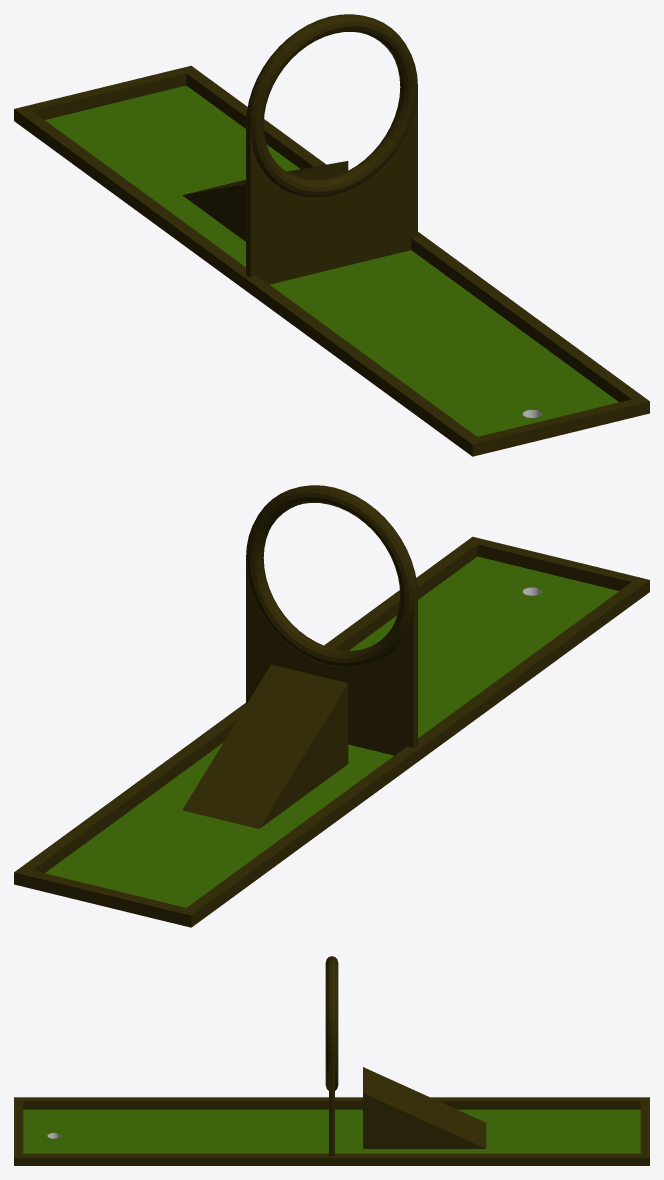
File: course7.fbx
3 views of the same model, one above another, from view 1: azimuth 30°, elevation 25°; view 2: azimuth 150°, elevation 25°; view 3: azimuth 270°, elevation 25° (orthographic). The views are drawn at different scales.
Parts seen in each view (by area): view 1: pPlane1, pCube5, Cube.001, Torus, Cube; view 2: pPlane1, pCube5, Cube, Cube.001, Torus; view 3: pPlane1, pCube5, Cube, Torus, Cube.001.
Boxes of the visible parts, bbox=[...] form: pPlane1: bbox=[45, 85, 618, 436]; pCube5: bbox=[14, 65, 649, 456]; Cube.001: bbox=[246, 90, 417, 284]; Torus: bbox=[246, 14, 417, 197]; Cube: bbox=[182, 161, 348, 241]; pPlane1: bbox=[45, 556, 618, 907]; pCube5: bbox=[14, 536, 649, 927]; Cube: bbox=[182, 664, 348, 828]; Cube.001: bbox=[246, 561, 417, 755]; Torus: bbox=[246, 485, 417, 668]; pPlane1: bbox=[23, 1109, 640, 1153]; pCube5: bbox=[14, 1097, 649, 1165]; Cube: bbox=[363, 1067, 486, 1148]; Torus: bbox=[325, 956, 338, 1090]; Cube.001: bbox=[329, 1052, 334, 1155].
Bounding box in the file's own units: 23 × 33 × 103.
